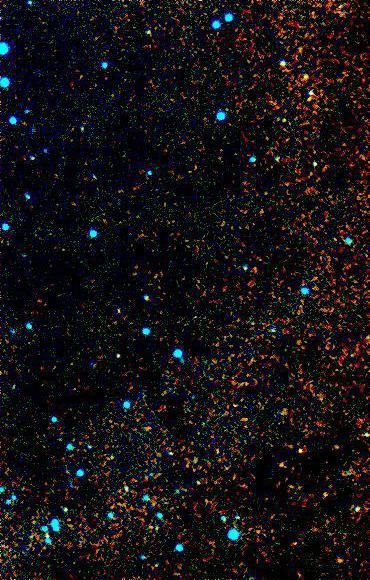star: (324, 545, 354, 575)
